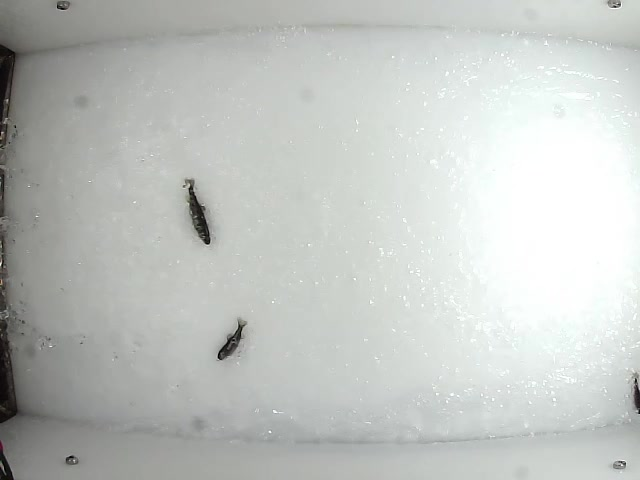fish: (183, 177, 212, 246), (215, 316, 249, 363)
